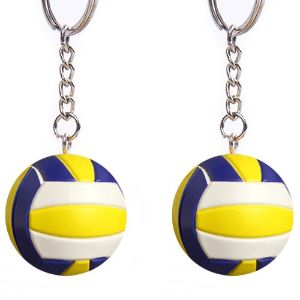voleibol: (173, 154, 294, 276), (6, 154, 127, 275)
